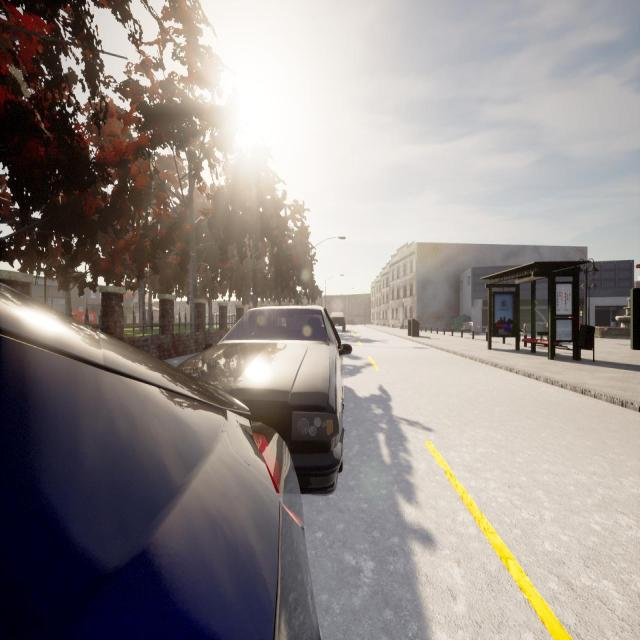Vehicle: (0, 287, 319, 640), (180, 306, 353, 493), (330, 312, 346, 332)
